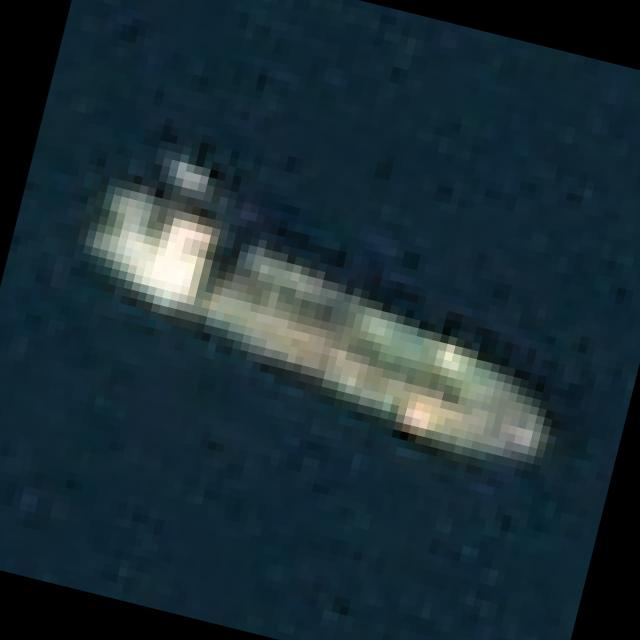ship: (48, 136, 618, 502)
